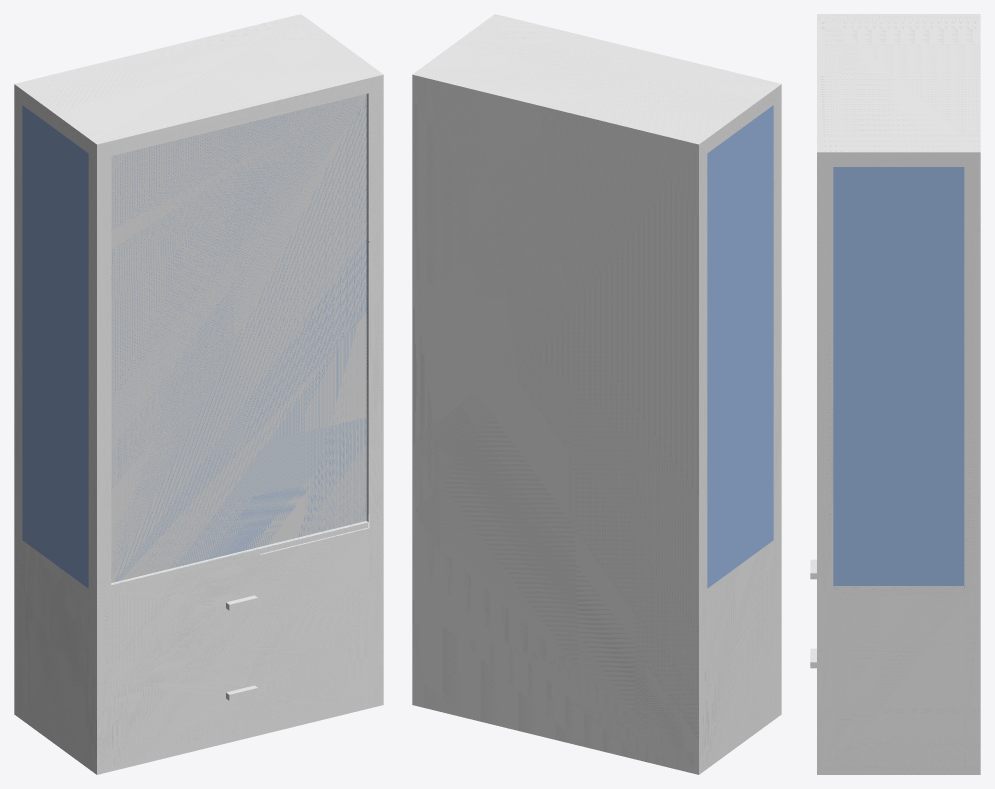
Rendered from mueble.gltf.
The picture shows the model from 3 angles, left to right: view 1: azimuth 30°, elevation 25°; view 2: azimuth 150°, elevation 25°; view 3: azimuth 270°, elevation 25°; orthographic projection.
Parts seen in each view (by area): view 1: SketchUp.017, SketchUp.001, SketchUp.004, SketchUp.002, SketchUp.018; view 2: SketchUp.001, SketchUp.002, SketchUp.004; view 3: SketchUp.013, SketchUp.001, SketchUp.004.
Part boxes in pixels (bbox=[...]): SketchUp.017: bbox=[111, 94, 366, 582]; SketchUp.001: bbox=[14, 74, 383, 774]; SketchUp.004: bbox=[14, 14, 383, 594]; SketchUp.002: bbox=[22, 105, 88, 588]; SketchUp.018: bbox=[111, 93, 368, 584]; SketchUp.001: bbox=[412, 74, 781, 774]; SketchUp.002: bbox=[707, 105, 773, 588]; SketchUp.004: bbox=[412, 14, 781, 539]; SketchUp.013: bbox=[833, 167, 964, 588]; SketchUp.001: bbox=[817, 152, 980, 774]; SketchUp.004: bbox=[817, 14, 980, 166].
Bounding box in the file's own units: 1 × 2.1 × 0.52.
